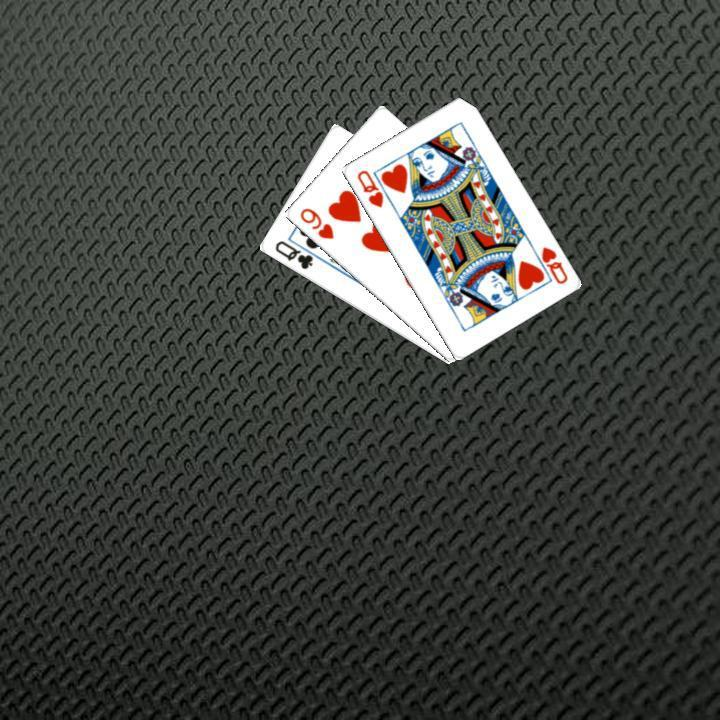9: (295, 203, 335, 241)
Q: (526, 242, 570, 286), (270, 236, 315, 272), (352, 165, 385, 210)
